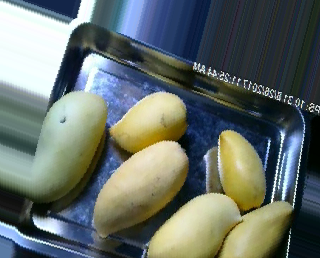Mango: (91, 136, 190, 239), (30, 91, 106, 201), (149, 192, 242, 257), (207, 126, 272, 214), (109, 85, 189, 155), (222, 191, 294, 256)
